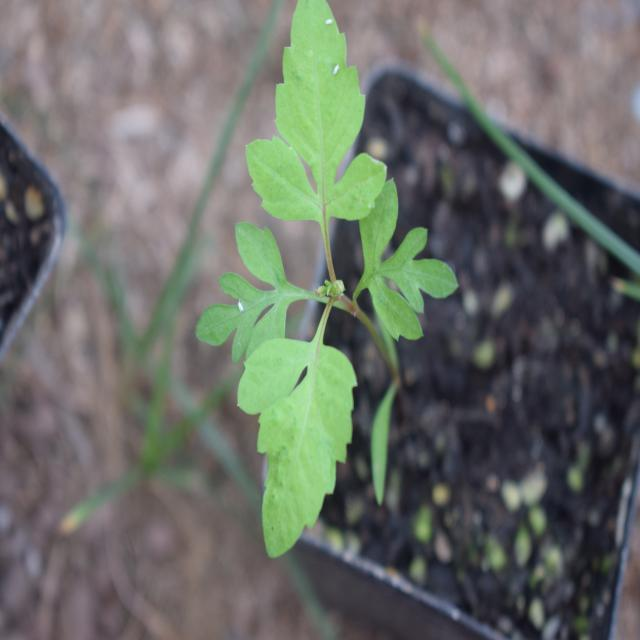Bidens pilosa: (176, 0, 420, 556)
